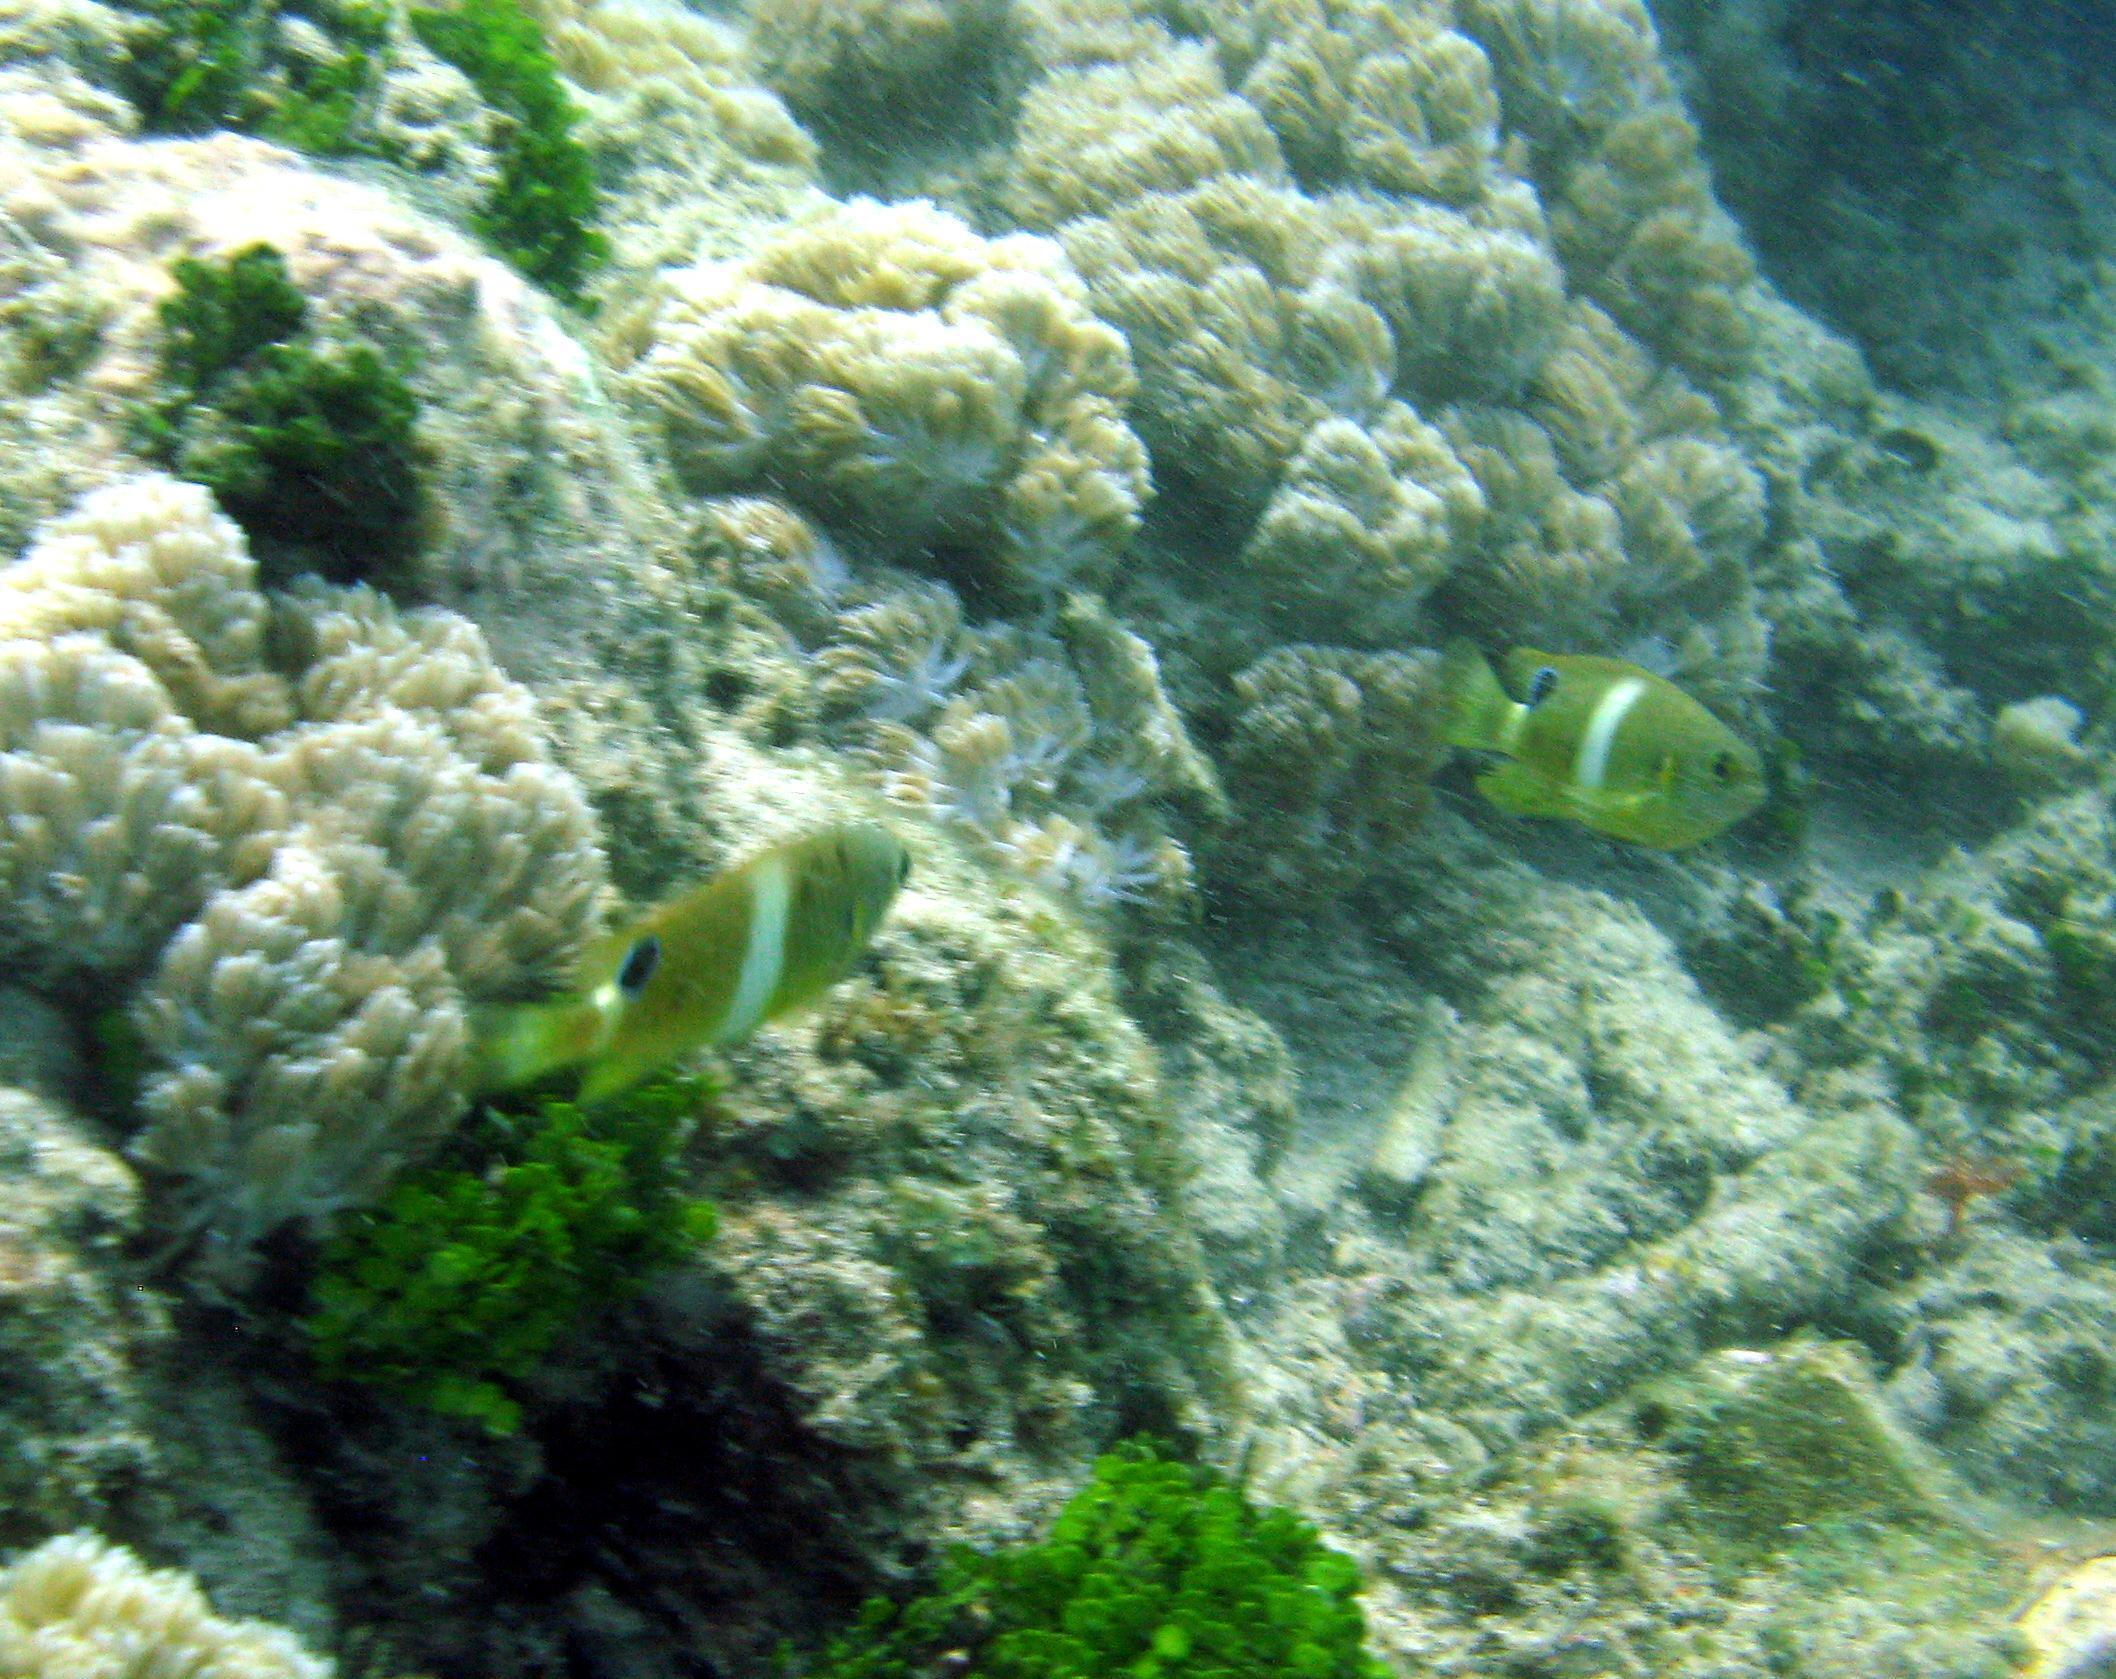Fish: (453, 810, 936, 1123), (1420, 611, 1781, 889)
